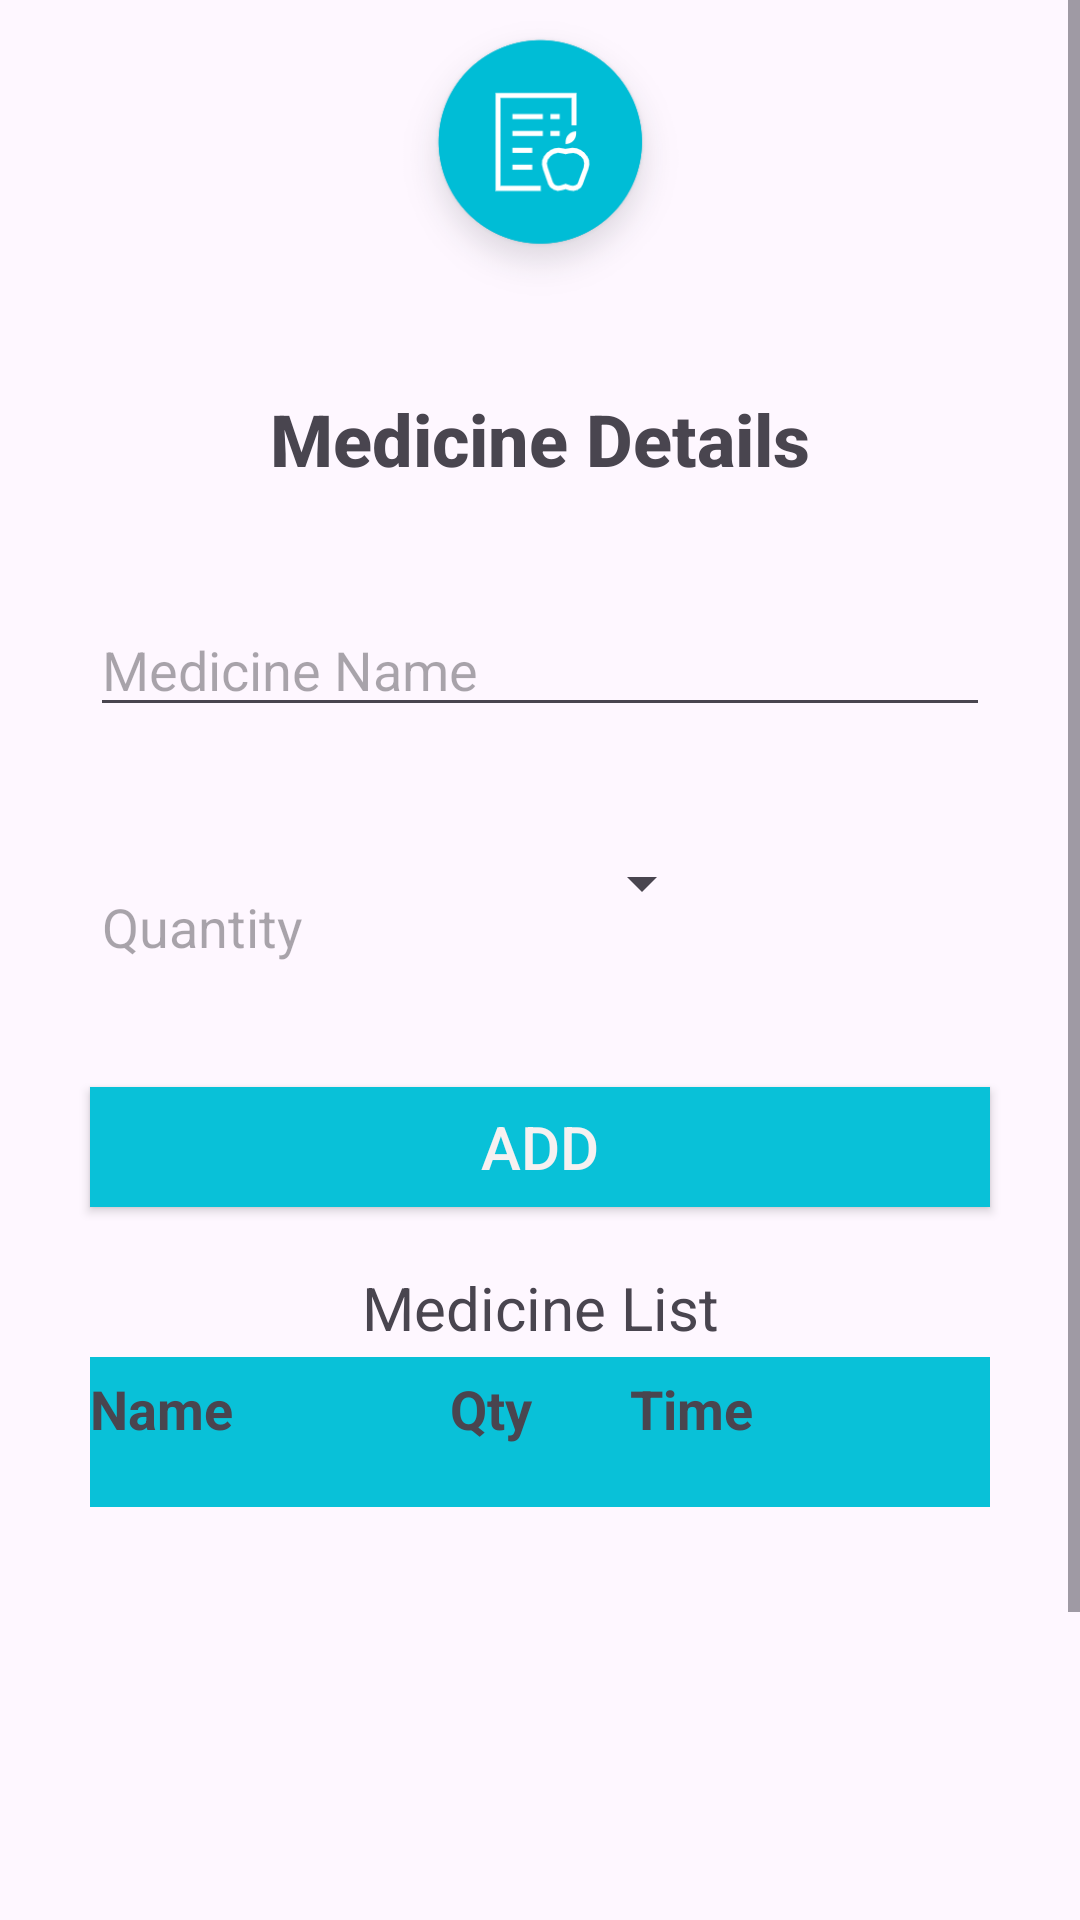

Icon click points for this 1080 x 1920 phone screenshot, format (x=x, y=y):
med details: (x=540, y=144)
